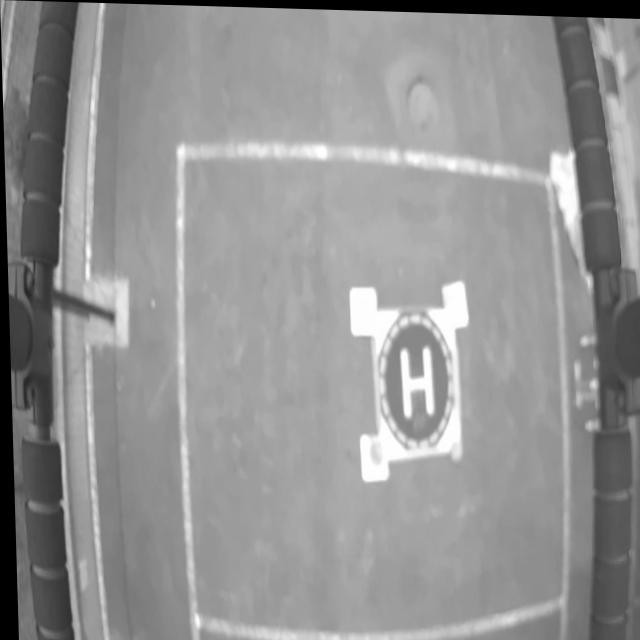Helipad: (398, 344, 433, 417)
